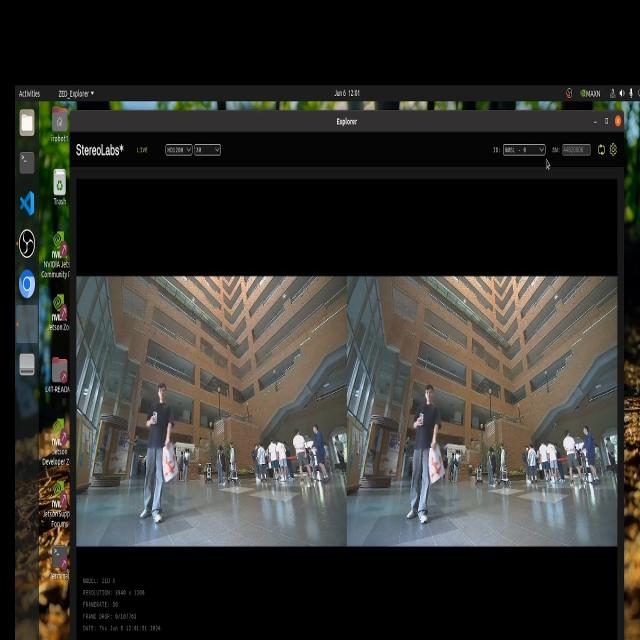red: (158, 447, 176, 481), (426, 455, 444, 482)
